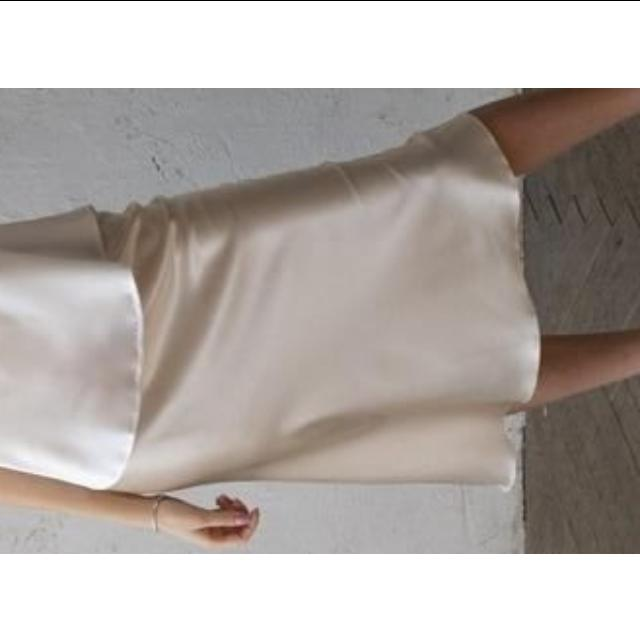silk: (0, 115, 546, 507)
